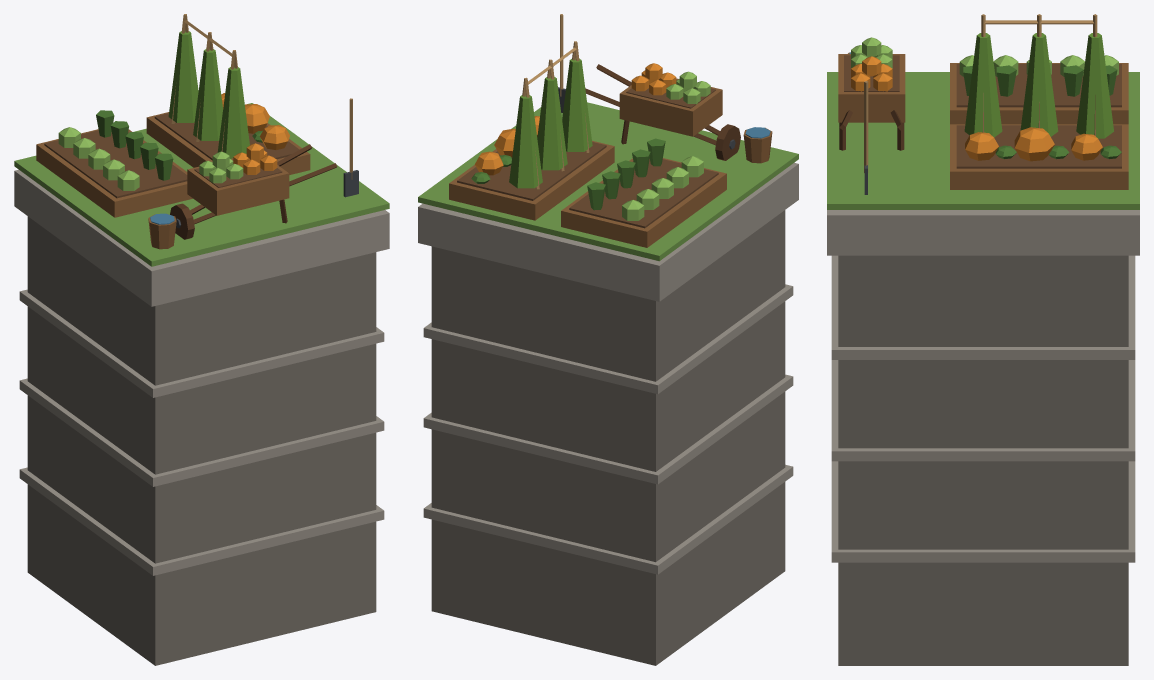
File: decor_vegetable_patch.glb
3 renders of one model, left to right at view 1: azimuth 30°, elevation 25°; view 2: azimuth 150°, elevation 25°; view 3: azimuth 270°, elevation 25°, orthographic. The views are drawn at different scales.
Visible parts, largest first — view 1: decor_vegetable_patch; view 2: decor_vegetable_patch; view 3: decor_vegetable_patch.
Part boxes in pixels (box(x1,y1,x2,y2)): decor_vegetable_patch: box(14, 14, 389, 665); decor_vegetable_patch: box(418, 14, 798, 665); decor_vegetable_patch: box(827, 14, 1139, 665).
Size of the model in its own units: 2.8 by 6 by 2.8.
